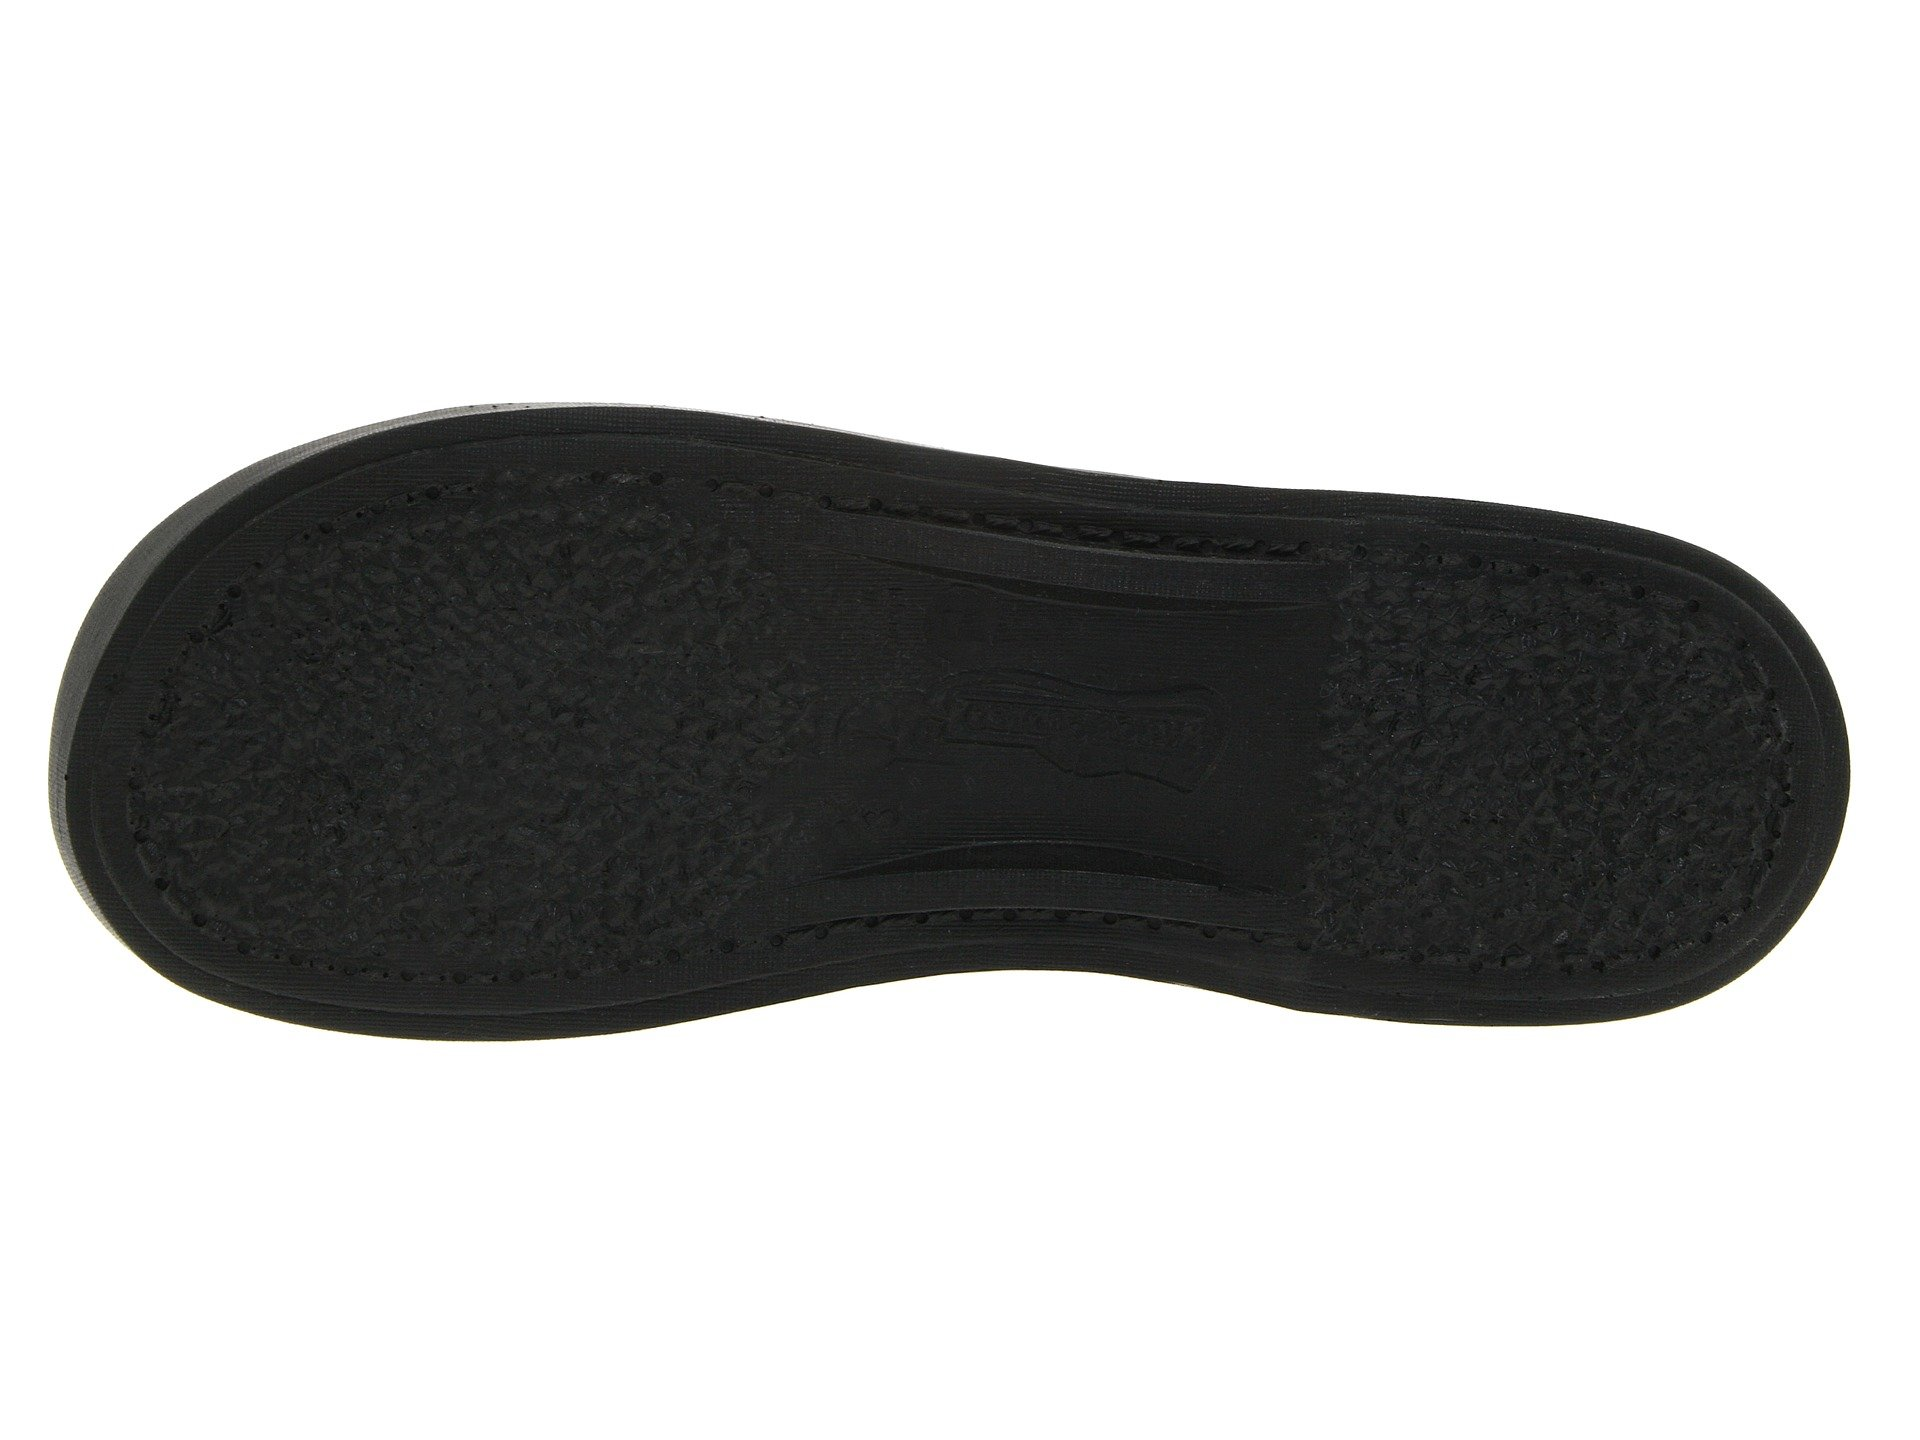other: (314, 607, 621, 897)
